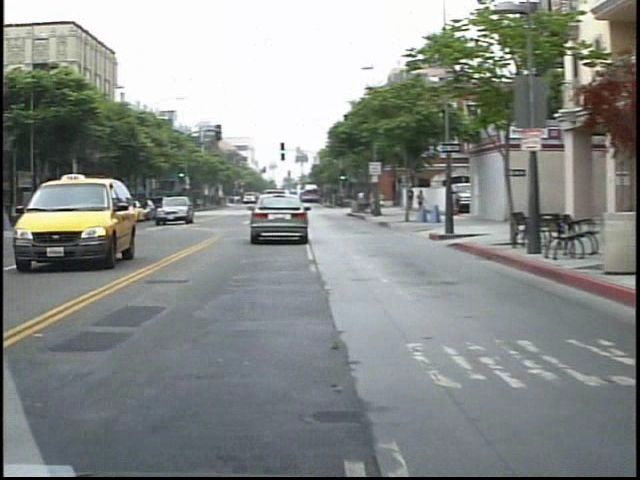person: (391, 181, 406, 220), (342, 186, 359, 216), (405, 187, 419, 221)
